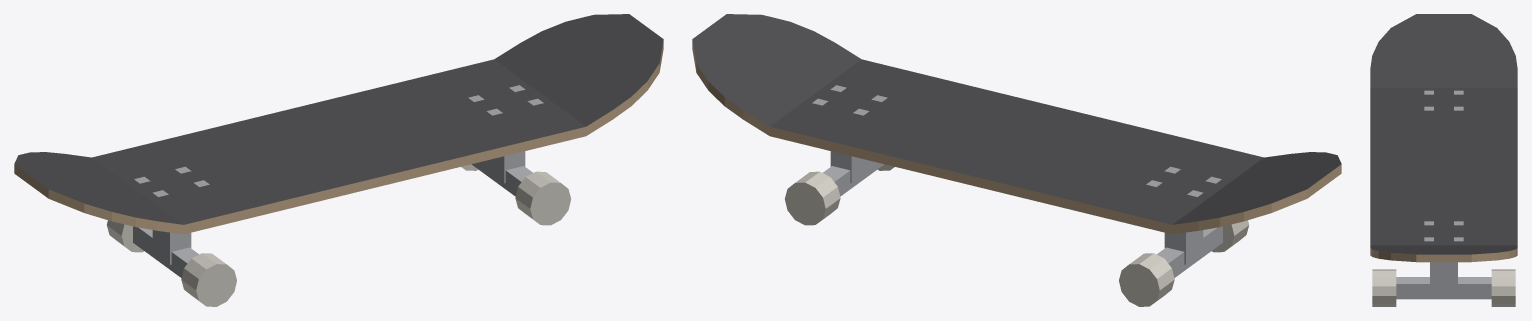
File: skateboard.glb
3 views of the same model, side by side, from view 1: azimuth 30°, elevation 25°; view 2: azimuth 150°, elevation 25°; view 3: azimuth 270°, elevation 25° (orthographic). The views are drawn at different scales.
Parts seen in each view (by area): view 1: skateboard; view 2: skateboard; view 3: skateboard.
Boxes of the visible parts, box(x1,y1,x2,y2) form: skateboard: box(14, 14, 663, 306); skateboard: box(692, 14, 1341, 306); skateboard: box(1370, 14, 1517, 306).
Bounding box in the file's own units: 0.81 × 0.166 × 0.21.
